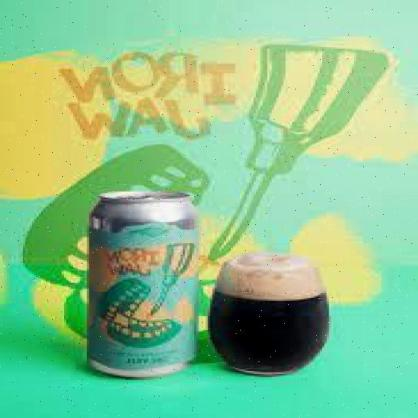can: (87, 189, 198, 381)
